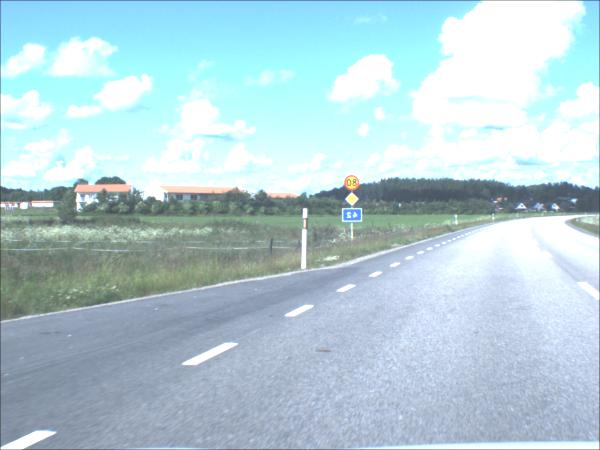80_SIGN: (343, 175, 361, 193)
PRIORITY_ROAD: (345, 193, 359, 208)
